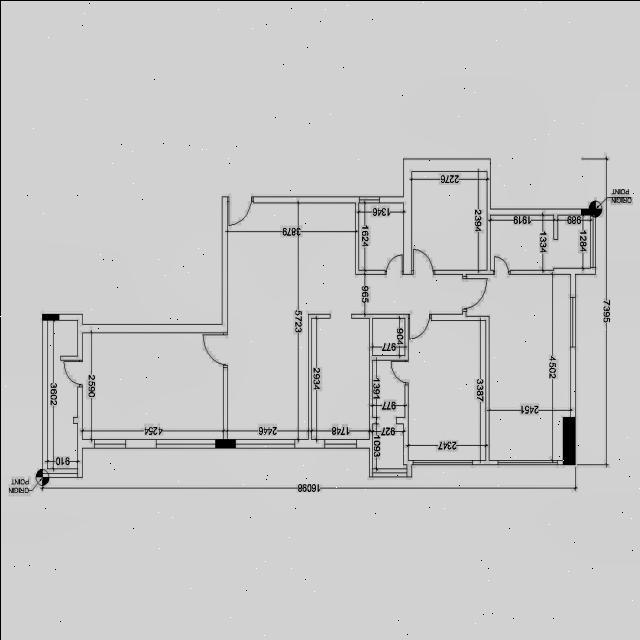Column: (562, 416, 574, 464), (214, 438, 234, 448), (42, 313, 58, 319), (580, 208, 594, 214)
Door: (461, 275, 487, 311), (201, 332, 227, 368), (226, 196, 253, 226), (407, 312, 431, 340), (410, 248, 434, 274), (62, 358, 82, 386), (390, 358, 408, 384), (384, 254, 402, 274), (492, 256, 510, 274)
Window: (154, 438, 214, 448), (235, 438, 294, 448), (93, 438, 125, 448), (324, 438, 356, 448), (42, 468, 76, 477), (569, 296, 575, 346), (412, 459, 472, 464), (496, 459, 556, 464), (371, 468, 406, 476), (590, 214, 594, 266), (358, 196, 378, 202)
